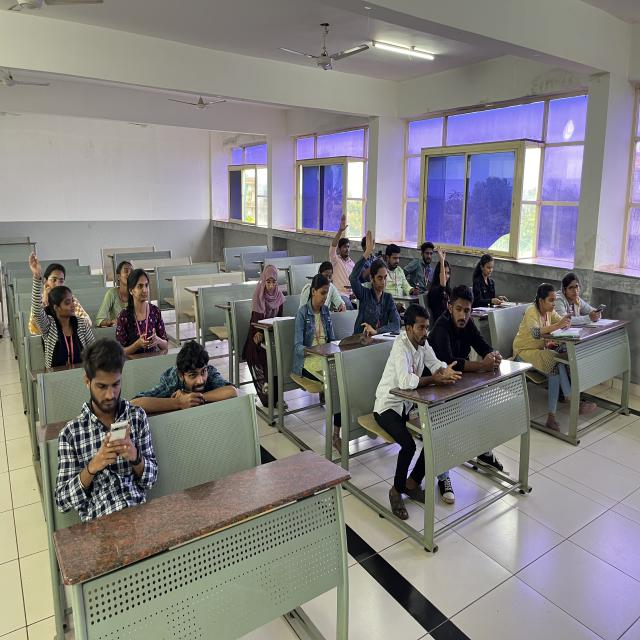Hand Rising: (29, 249, 95, 358), (356, 229, 400, 331), (332, 212, 356, 292), (436, 246, 452, 305)
Reading: (250, 264, 294, 324), (474, 255, 511, 309)
Sleeping: (134, 338, 238, 406)
Using Phone: (56, 348, 156, 523), (514, 281, 571, 361), (116, 270, 169, 350), (296, 276, 330, 378), (558, 271, 604, 327)
